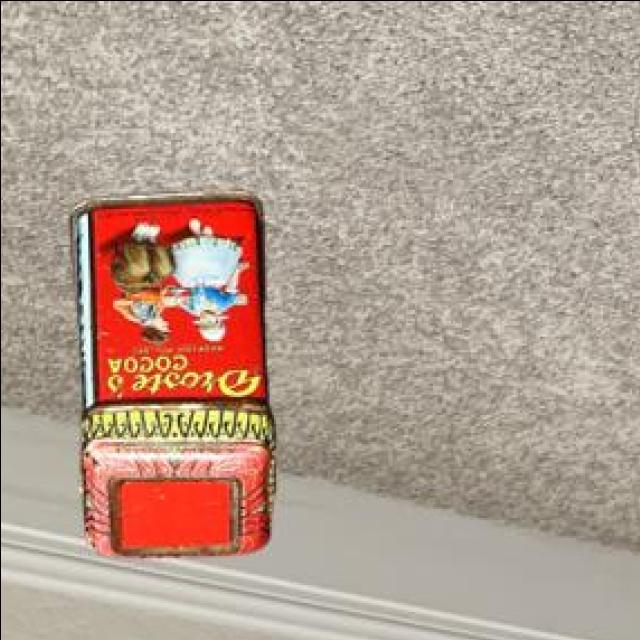logam: (73, 194, 279, 561)
